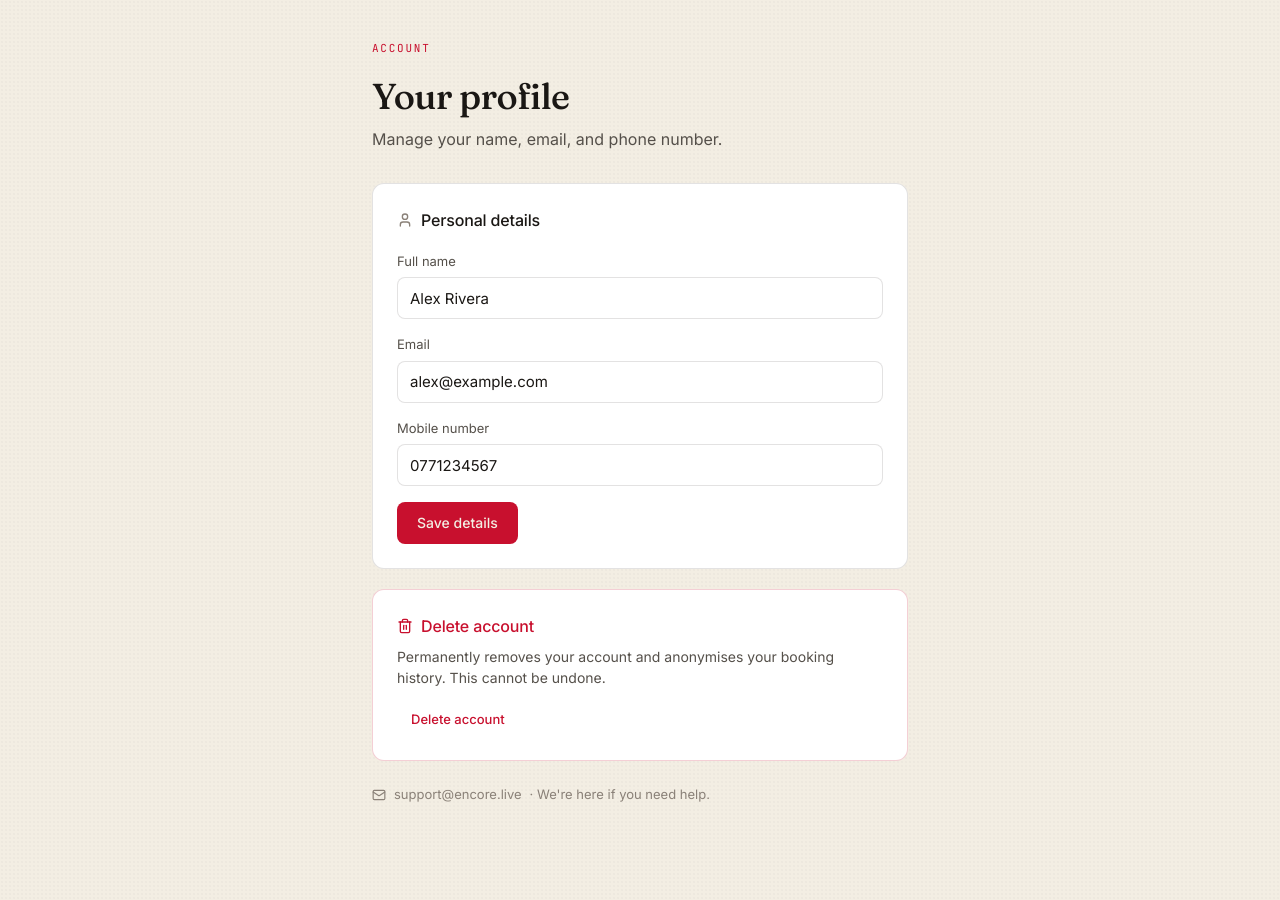
it: ProfilePage › opens the delete-account confirmation modal
Expected: the field showing "Alex Rivera" is shown, [397, 277, 883, 319]
Click the button "Delete account" at (458, 720), box [397, 704, 519, 736]
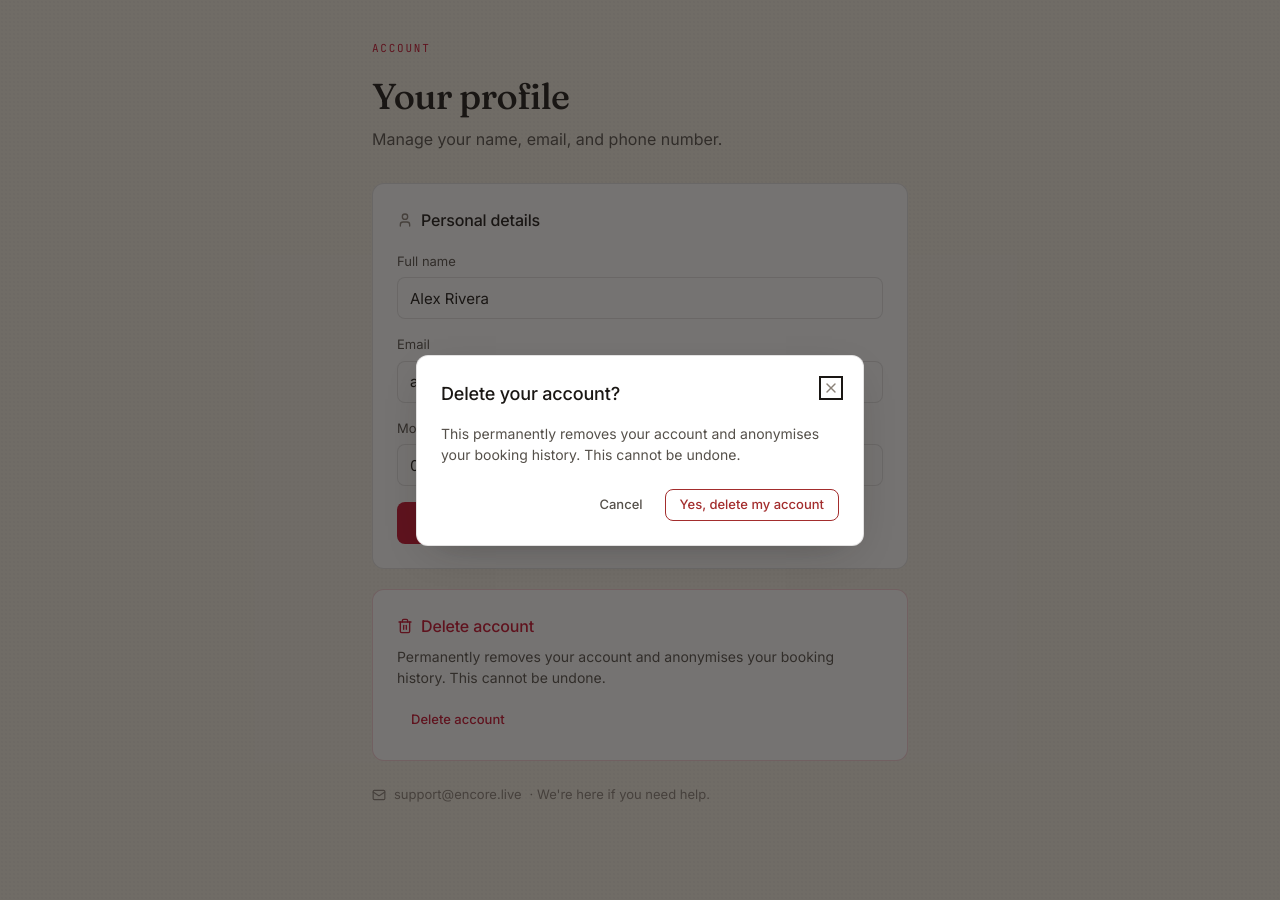
Result: the dialog is shown at [416, 354, 864, 546]
Result: the heading "Delete your account?" is shown at [441, 380, 620, 406]
